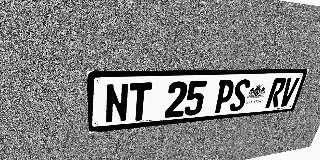2: (165, 81, 189, 118)
5: (184, 80, 207, 116)
N: (105, 83, 129, 124)
P: (213, 80, 236, 113)
R: (265, 78, 287, 108)
S: (228, 79, 252, 112)
T: (128, 82, 152, 121)
V: (278, 78, 300, 107)
